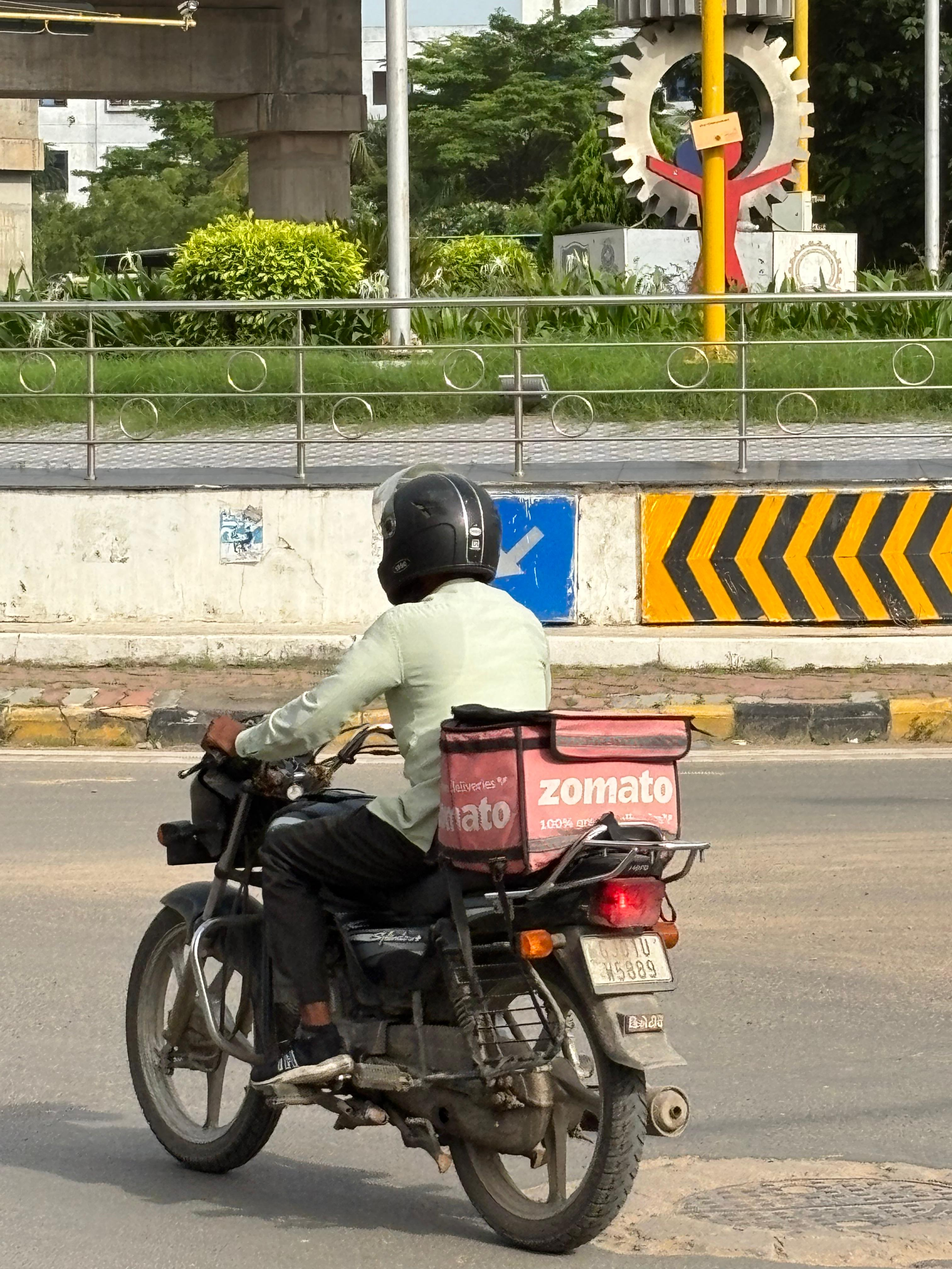BikeWithRider: (115, 456, 711, 1254)
Helmet: (371, 458, 507, 604)
